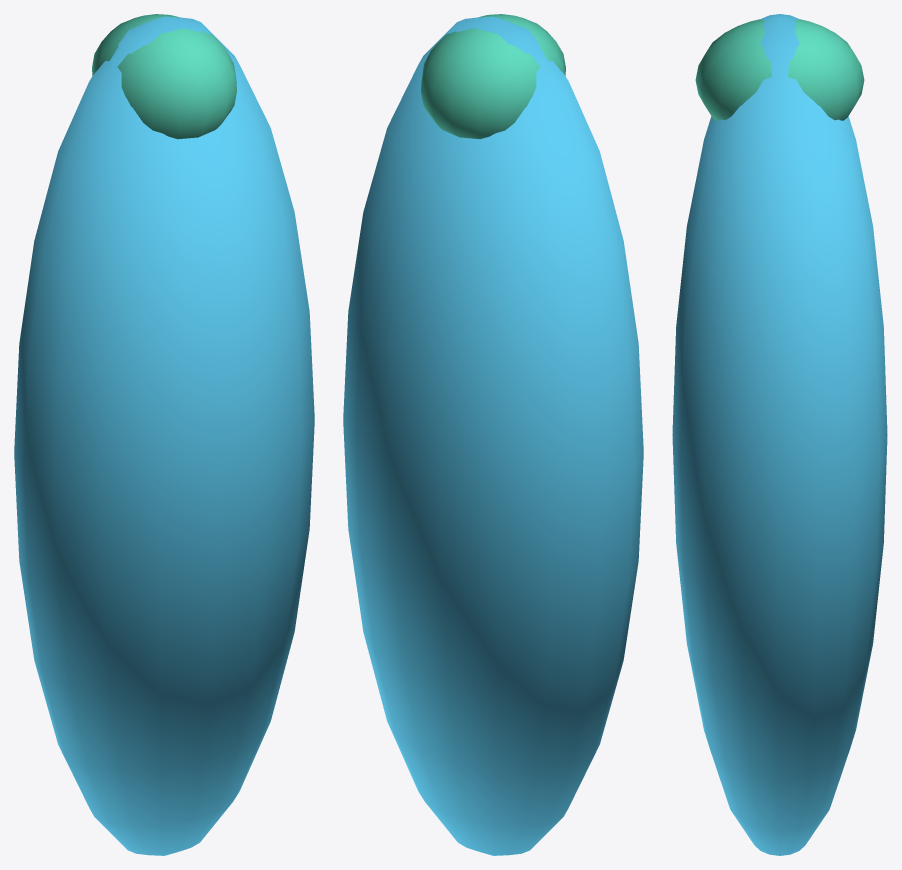
File: human_twin.glb
The picture shows the model from 3 angles, left to right: view 1: azimuth 30°, elevation 25°; view 2: azimuth 150°, elevation 25°; view 3: azimuth 270°, elevation 25°; orthographic projection.
Parts seen in each view (by area): view 1: Body_Silhouette, Brain; view 2: Body_Silhouette, Brain; view 3: Body_Silhouette, Brain.
Boxes of the visible parts, box(x1,y1,x2,y2) form: Body_Silhouette: box(14, 16, 314, 855); Brain: box(92, 14, 236, 139); Body_Silhouette: box(343, 16, 643, 855); Brain: box(421, 14, 565, 139); Body_Silhouette: box(672, 14, 887, 855); Brain: box(695, 19, 864, 120).
Bounding box in the file's own units: 0.84 × 2.4 × 0.56.
